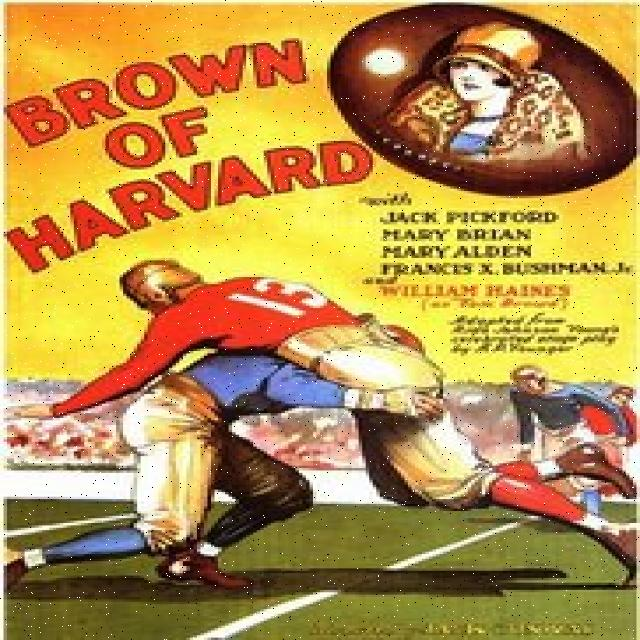movie-judul: (5, 10, 379, 278)
picture: (3, 0, 640, 609)
